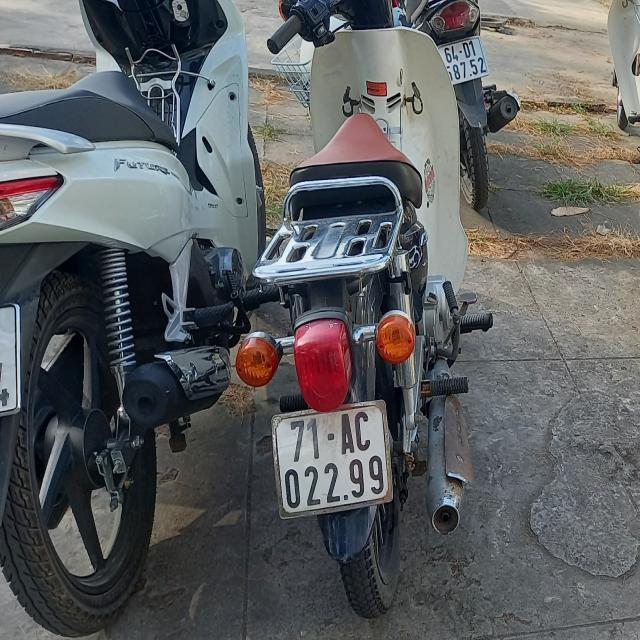0: (284, 467, 301, 509)
1: (306, 417, 320, 461)
2: (304, 466, 322, 506), (324, 462, 340, 504)
7: (290, 420, 304, 462)
9: (348, 459, 365, 498), (370, 454, 386, 494)
A: (338, 412, 354, 455)
C: (355, 409, 372, 453)
